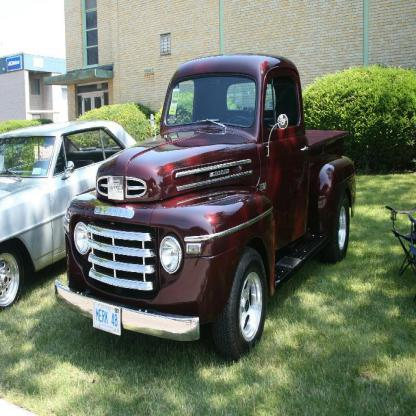Car: (0, 118, 140, 309)
Truck: (54, 53, 356, 360)
